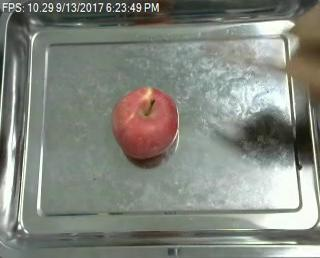apple: (112, 87, 180, 159)
